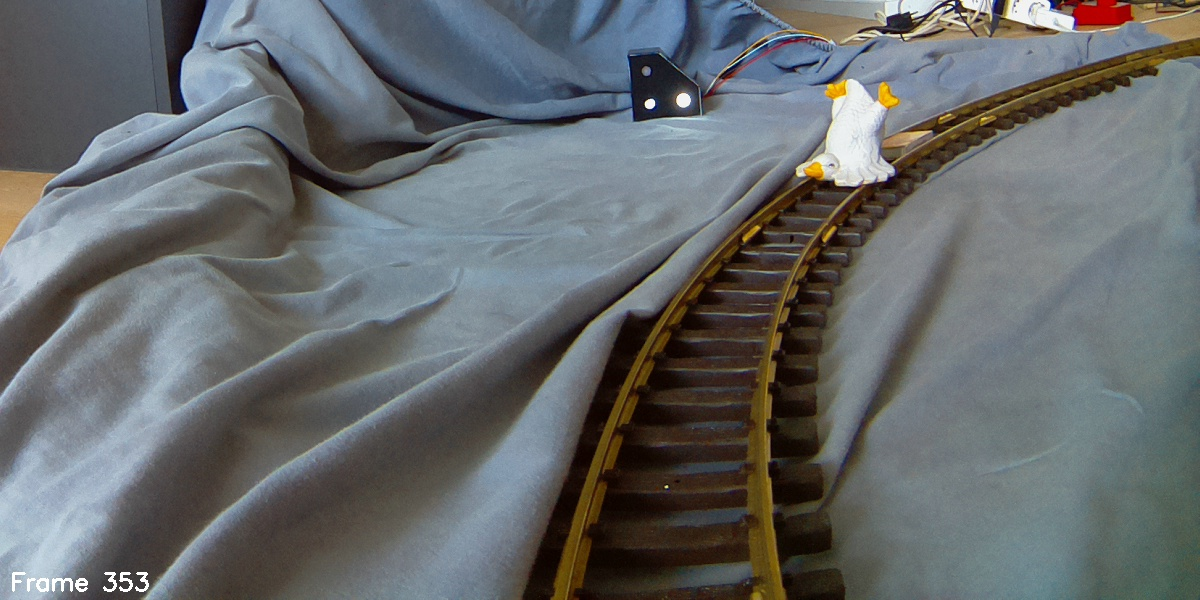Ente: (789, 77, 901, 191)
Halt: (626, 45, 704, 124)
